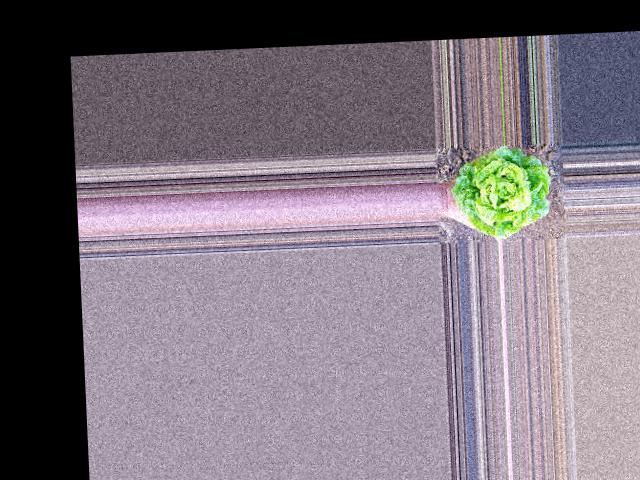lettuce: (456, 146, 554, 238)
